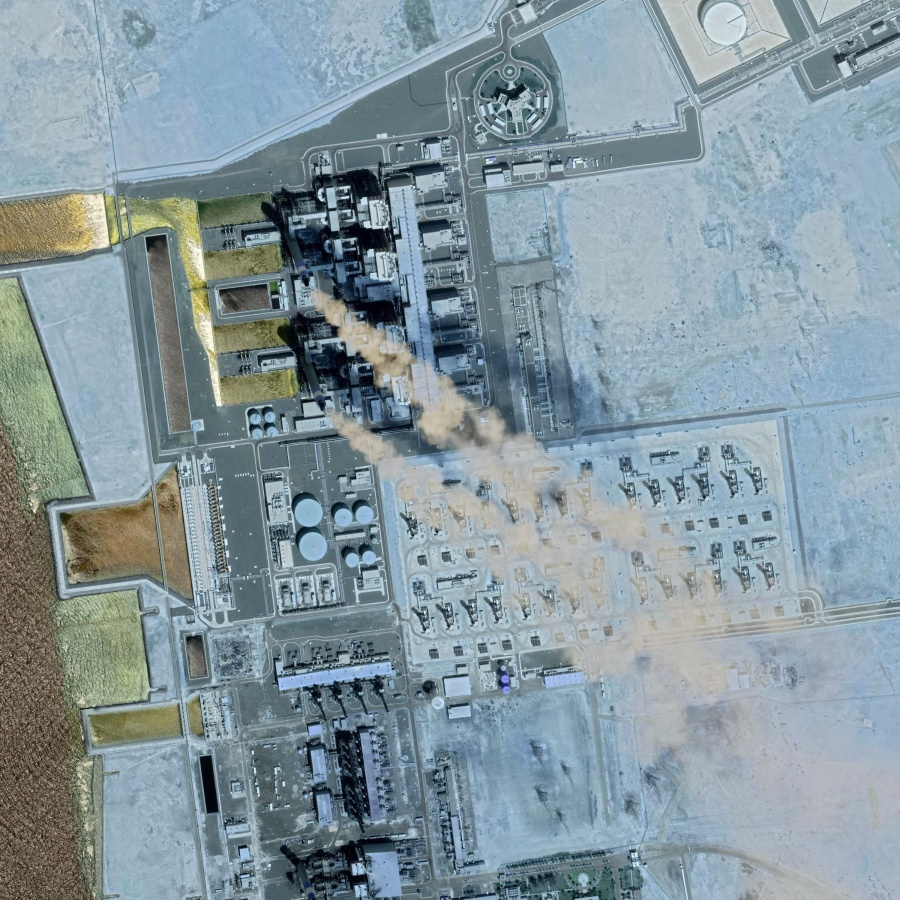PowerPlant: (182, 155, 625, 563)
